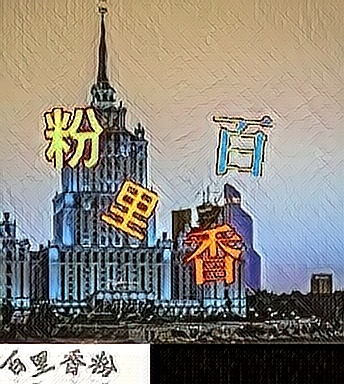B0D9: (209, 111, 274, 175)
B7DB: (42, 105, 107, 169)
C0EF: (98, 178, 163, 242)
CFE3: (182, 222, 247, 286)
